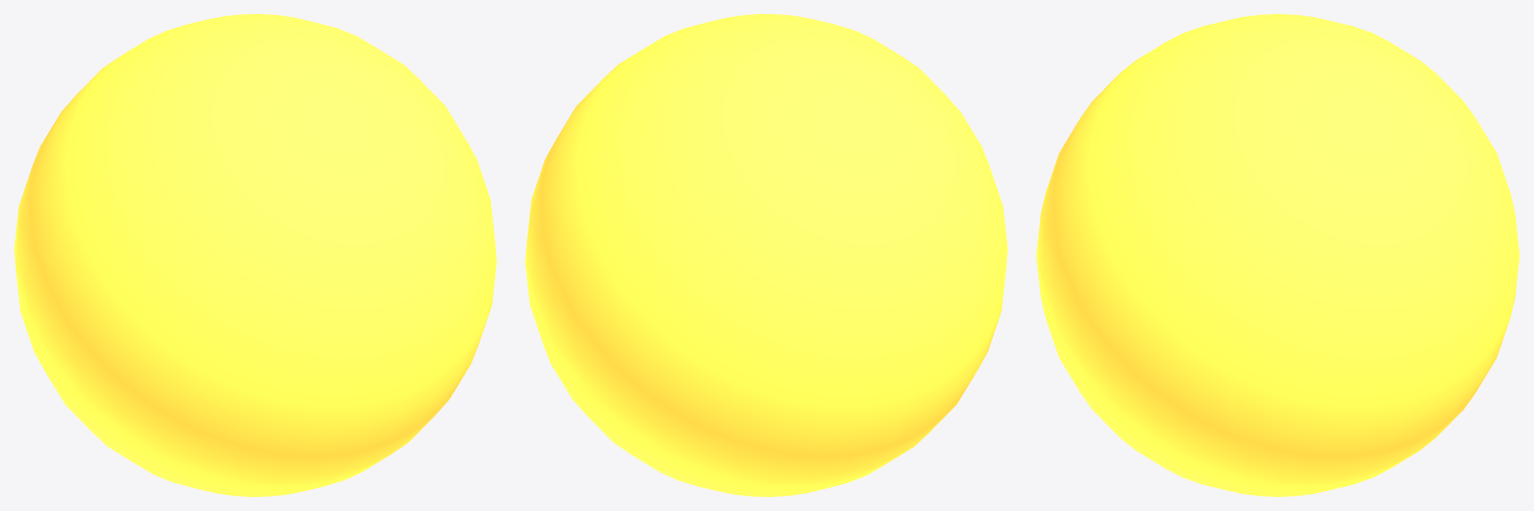
The model's file is sun.glb.
3 renders of one model, left to right at view 1: azimuth 30°, elevation 25°; view 2: azimuth 150°, elevation 25°; view 3: azimuth 270°, elevation 25°, orthographic.
Parts seen in each view (by area): view 1: Sun_Glow; view 2: Sun_Glow; view 3: Sun_Glow.
Boxes of the visible parts, bbox=[...] form: Sun_Glow: bbox=[14, 14, 496, 496]; Sun_Glow: bbox=[525, 14, 1007, 496]; Sun_Glow: bbox=[1036, 14, 1519, 496].
Bounding box in the file's own units: 4.29 × 4.29 × 4.29.
